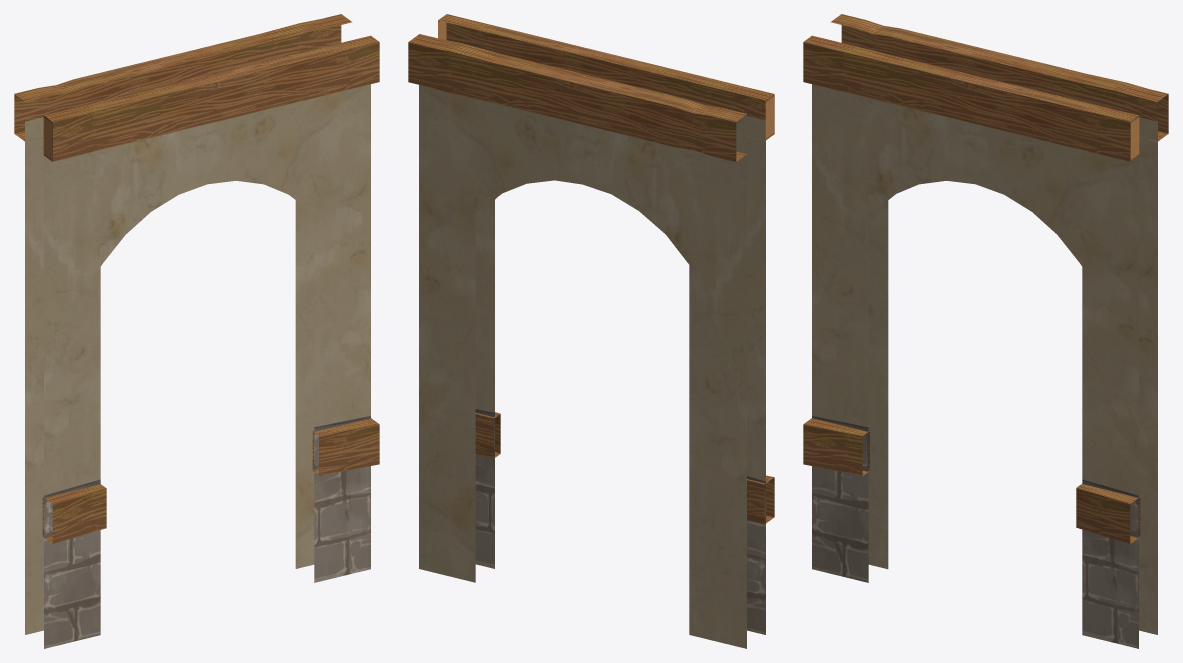
The model's file is Wall_Plaster_Door_Round.glb.
3 views of the same model, side by side, from view 1: azimuth 30°, elevation 25°; view 2: azimuth 150°, elevation 25°; view 3: azimuth 330°, elevation 25° (orthographic).
Visible parts, largest first — view 1: Wall_Plaster_Door_Round; view 2: Wall_Plaster_Door_Round; view 3: Wall_Plaster_Door_Round.
Boxes of the visible parts, bbox=[...] form: Wall_Plaster_Door_Round: bbox=[14, 14, 379, 648]; Wall_Plaster_Door_Round: bbox=[408, 14, 774, 648]; Wall_Plaster_Door_Round: bbox=[803, 14, 1168, 648].
Size of the model in its own units: 2 by 3.12 by 0.4065.
3 materials, 3 textured.
